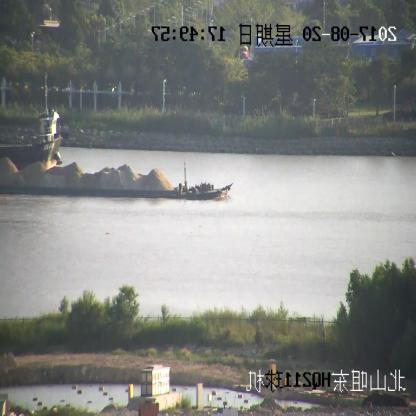Bulk Carrier: (0, 74, 60, 168)
